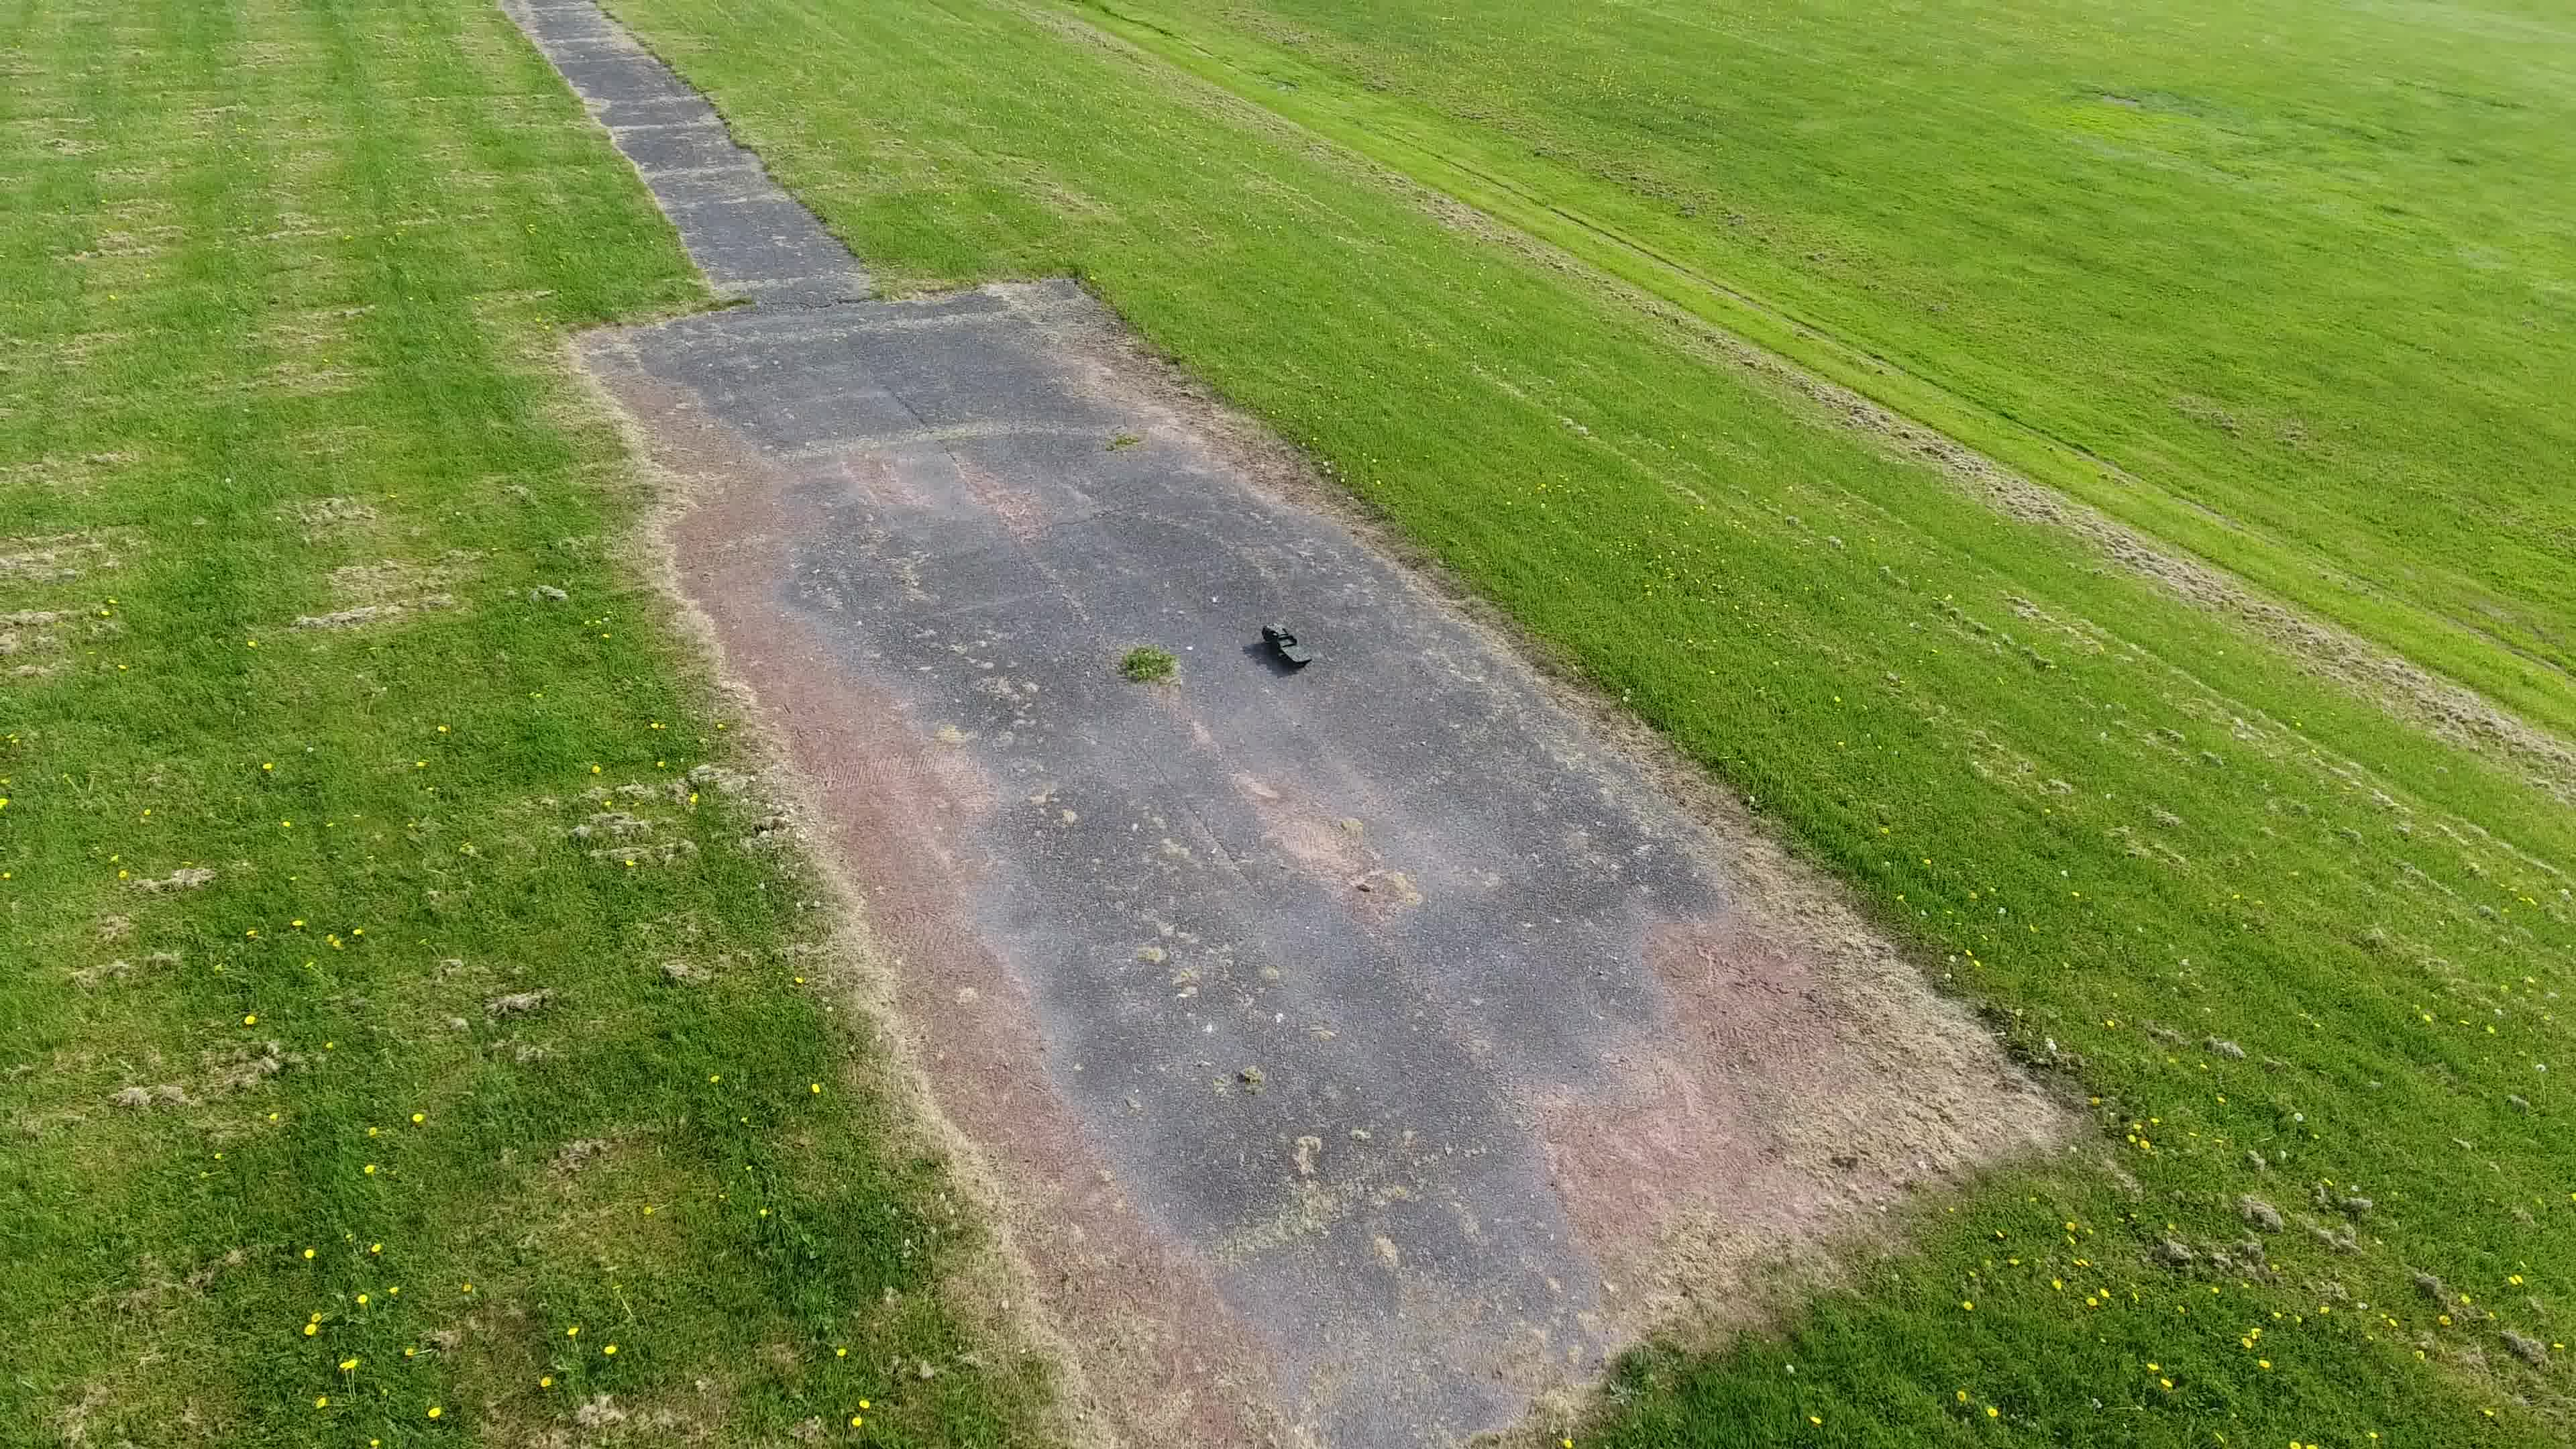transporter9: (1260, 621, 1315, 671)
